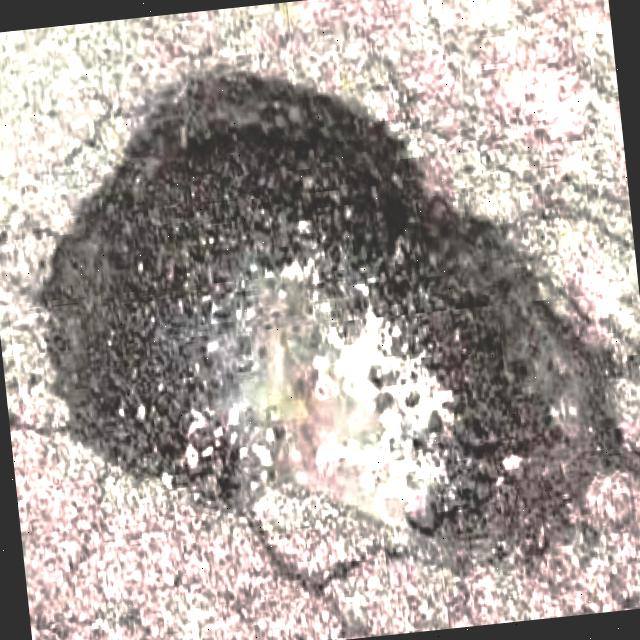pothole: (5, 22, 640, 617)
